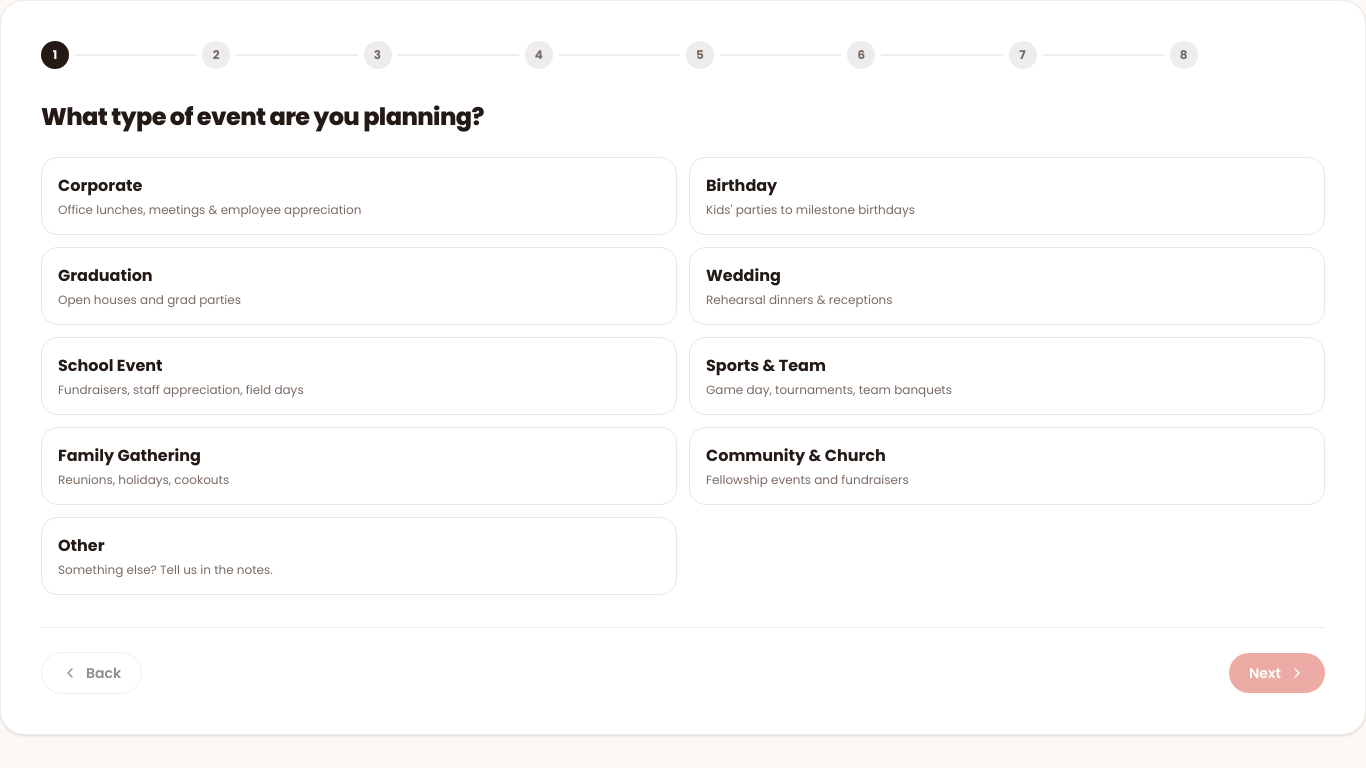
Test: CateringWizard › disables Next on the first step until an event type is chosen
Expected: the button "Next" is disabled, [1229,653,1325,693]
Click the text "Corporate" at (100, 186), box [58,174,142,198]
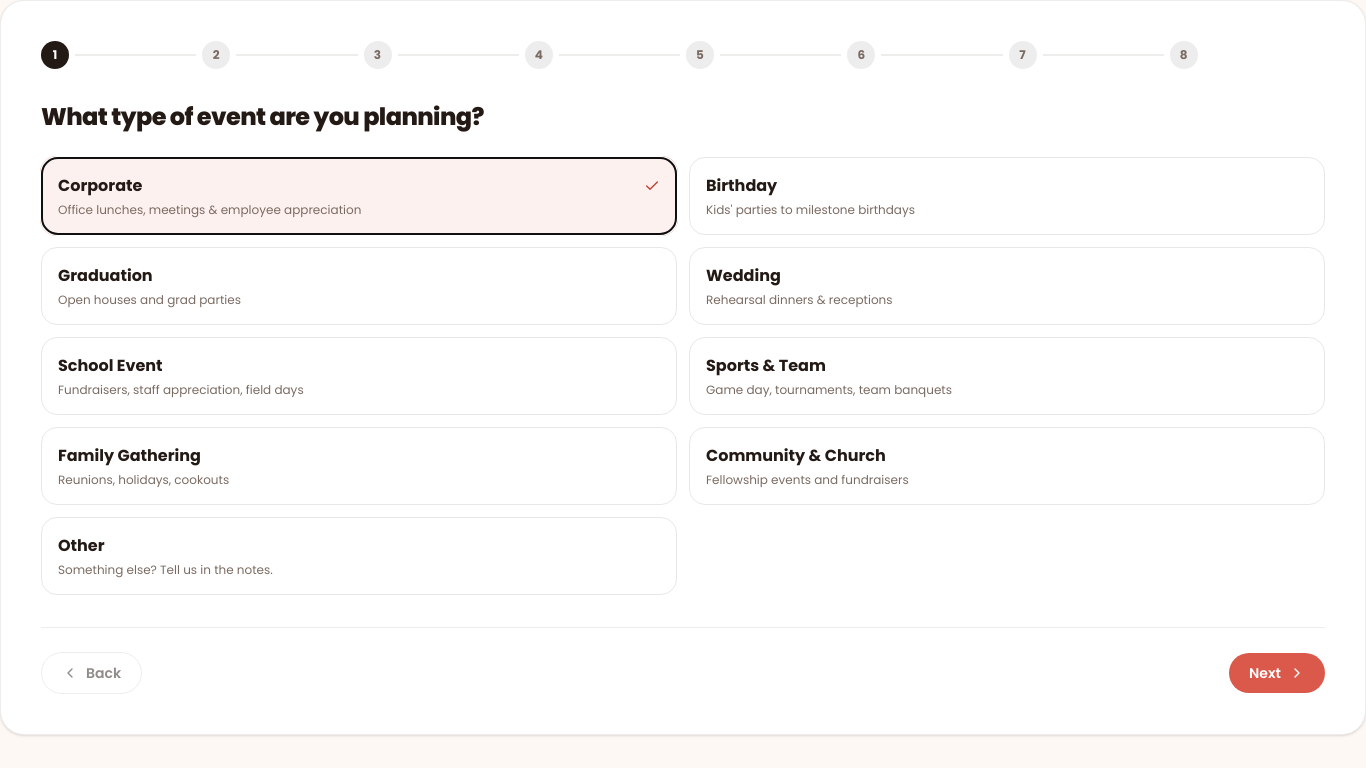
Expected: the button "Next" is enabled, [1229,653,1325,693]
